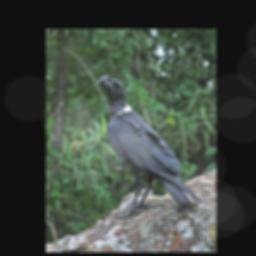Crow: (95, 73, 201, 220)
